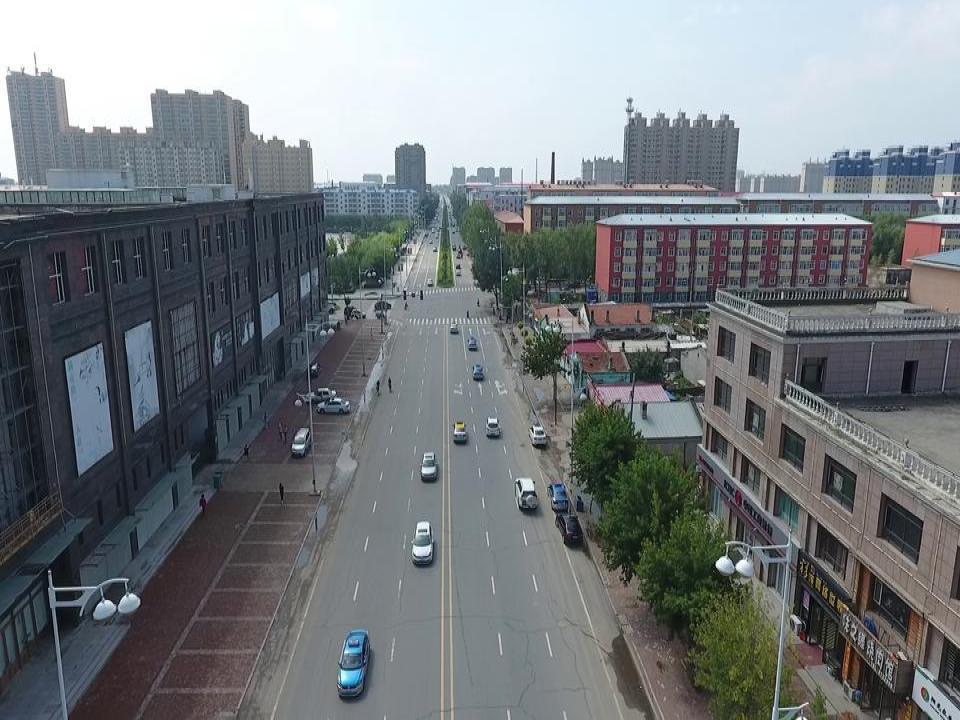car: (337, 628, 369, 697), (411, 521, 434, 564), (555, 512, 583, 544), (514, 477, 538, 508), (546, 482, 568, 510), (290, 427, 311, 456), (419, 451, 438, 480), (306, 387, 337, 404), (316, 398, 350, 413), (528, 424, 546, 444), (452, 421, 467, 443), (313, 300, 335, 313), (485, 416, 499, 436), (344, 306, 362, 318), (307, 363, 322, 377), (472, 364, 483, 380), (374, 300, 392, 309), (350, 309, 366, 319), (467, 336, 477, 351), (517, 282, 531, 290), (450, 322, 458, 334), (533, 289, 545, 296), (455, 269, 461, 276), (427, 279, 433, 285), (455, 263, 461, 269), (432, 245, 437, 252), (456, 252, 460, 259), (429, 239, 433, 244), (452, 246, 456, 250)
